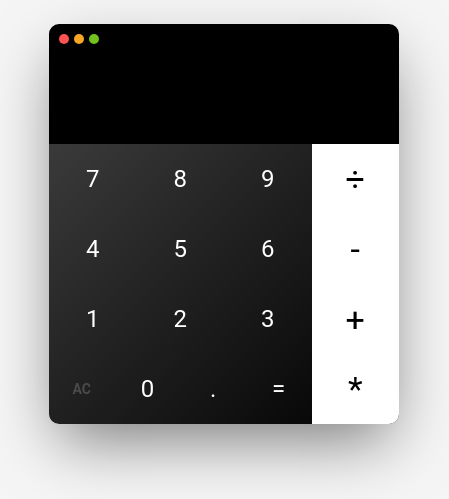
it: Calculator performs addition correctly
Click the text "1": (93, 319) [86,305,100,333]
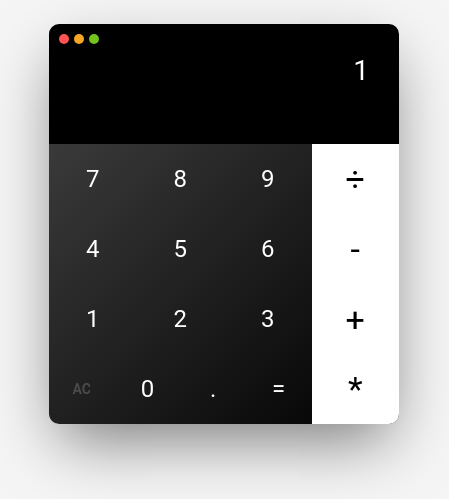
Click the text "2": (180, 319) [174,305,187,333]
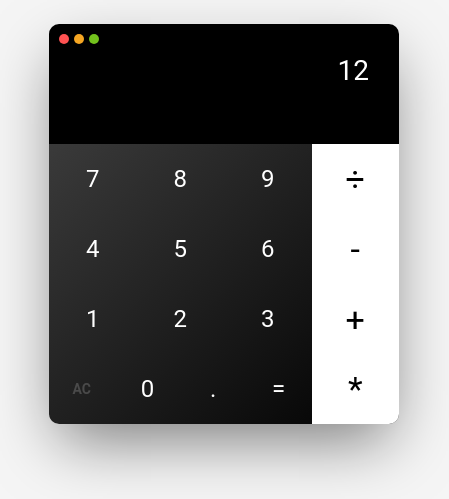
Click the text "+": (355, 319) [346,299,365,339]
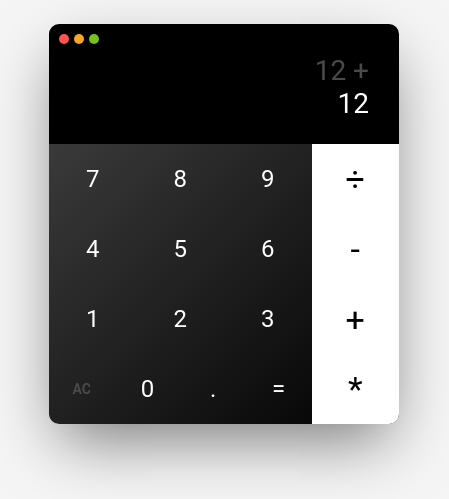
Click the text "3": (268, 319) [261,305,274,333]
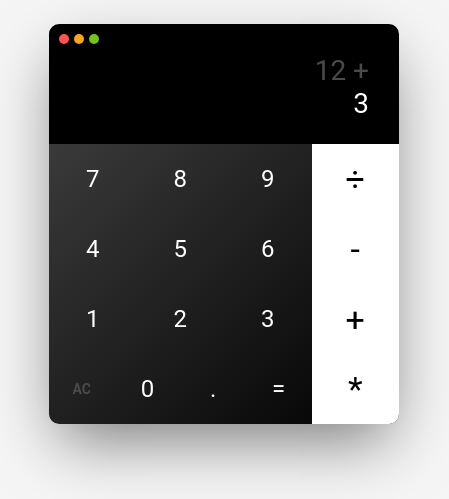
Click the text "=": (279, 389) [272,375,285,403]
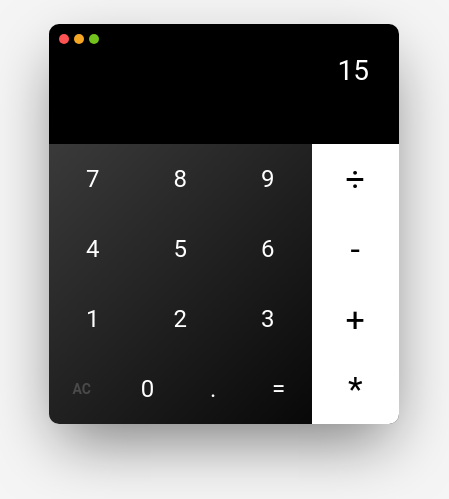
Result: the text "15" is shown at [338,54,369,87]
